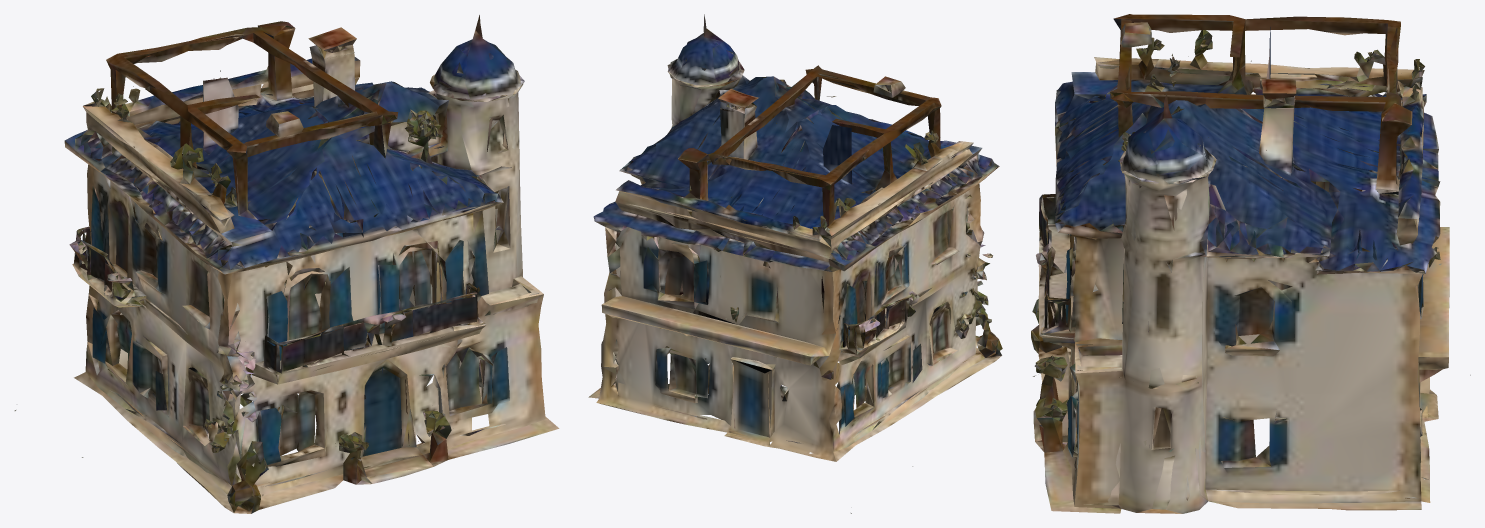
Rendered from tower_2.glb.
3 renders of one model, left to right at view 1: azimuth 30°, elevation 25°; view 2: azimuth 150°, elevation 25°; view 3: azimuth 270°, elevation 25°, orthographic. The views are drawn at different scales.
Visible parts, largest first — view 1: harbor__tower_2__neural_lod; view 2: harbor__tower_2__neural_lod; view 3: harbor__tower_2__neural_lod.
Part boxes in pixels (box(x1,y1,x2,y2)): harbor__tower_2__neural_lod: box(14, 15, 559, 513); harbor__tower_2__neural_lod: box(588, 14, 1002, 513); harbor__tower_2__neural_lod: box(1031, 14, 1470, 513).
Bounding box in the file's own units: 0.8884 × 0.9843 × 0.8711.
Materials: 1 (1 with a texture image).
